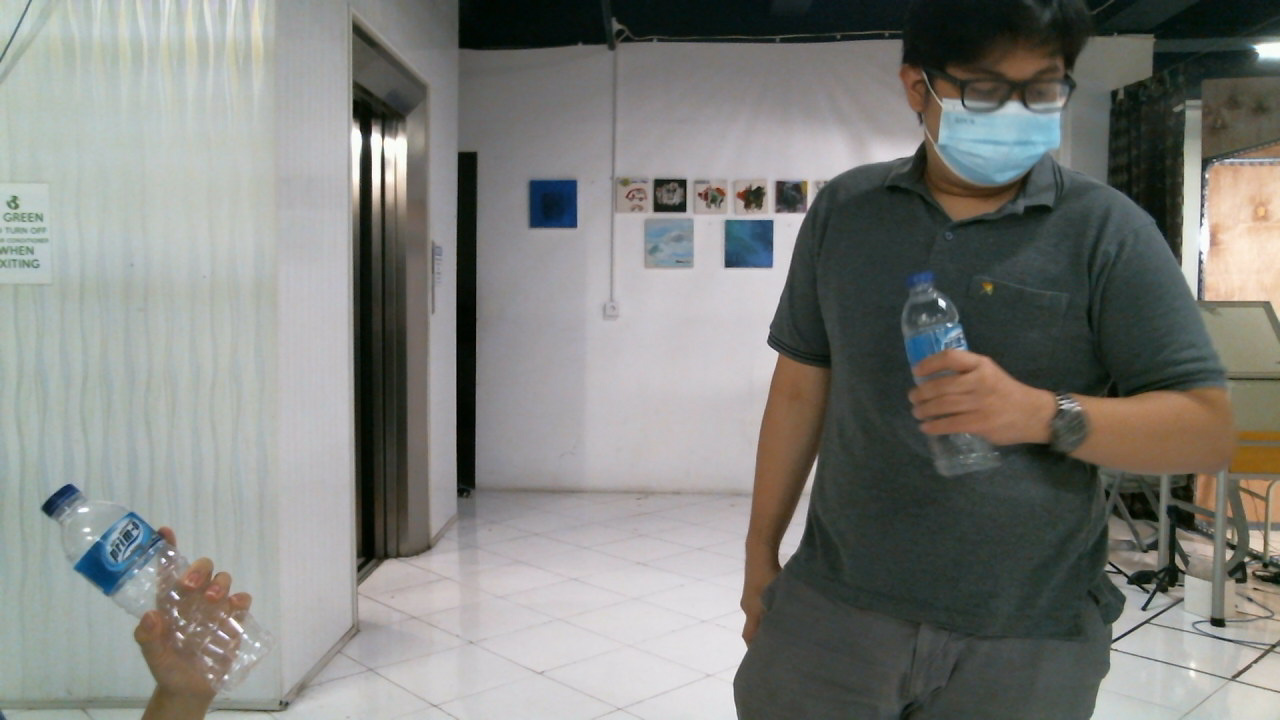Bottle: (45, 487, 270, 698)
